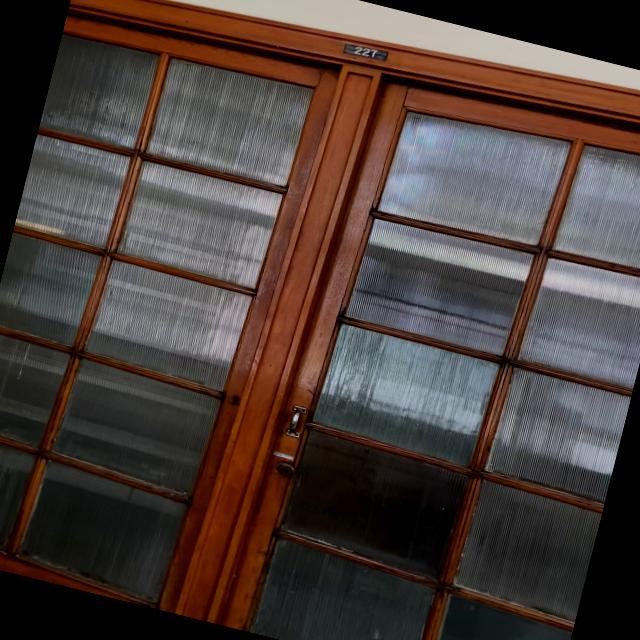room227: (338, 38, 391, 66)
